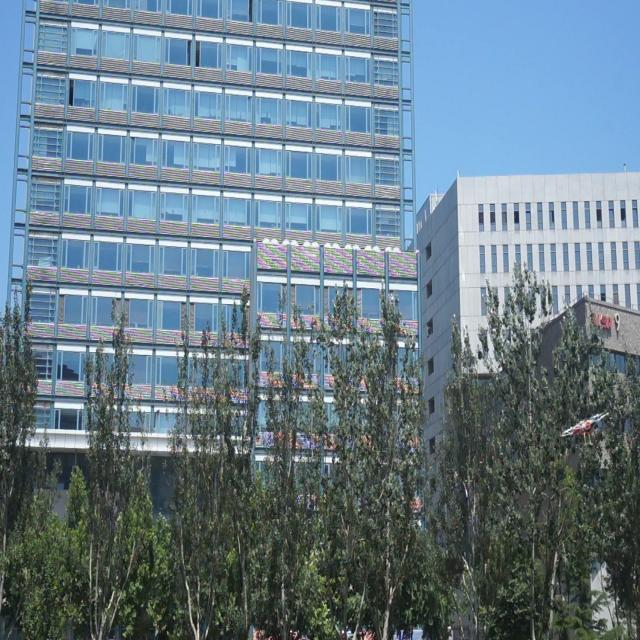UAV: (561, 412, 610, 445)
